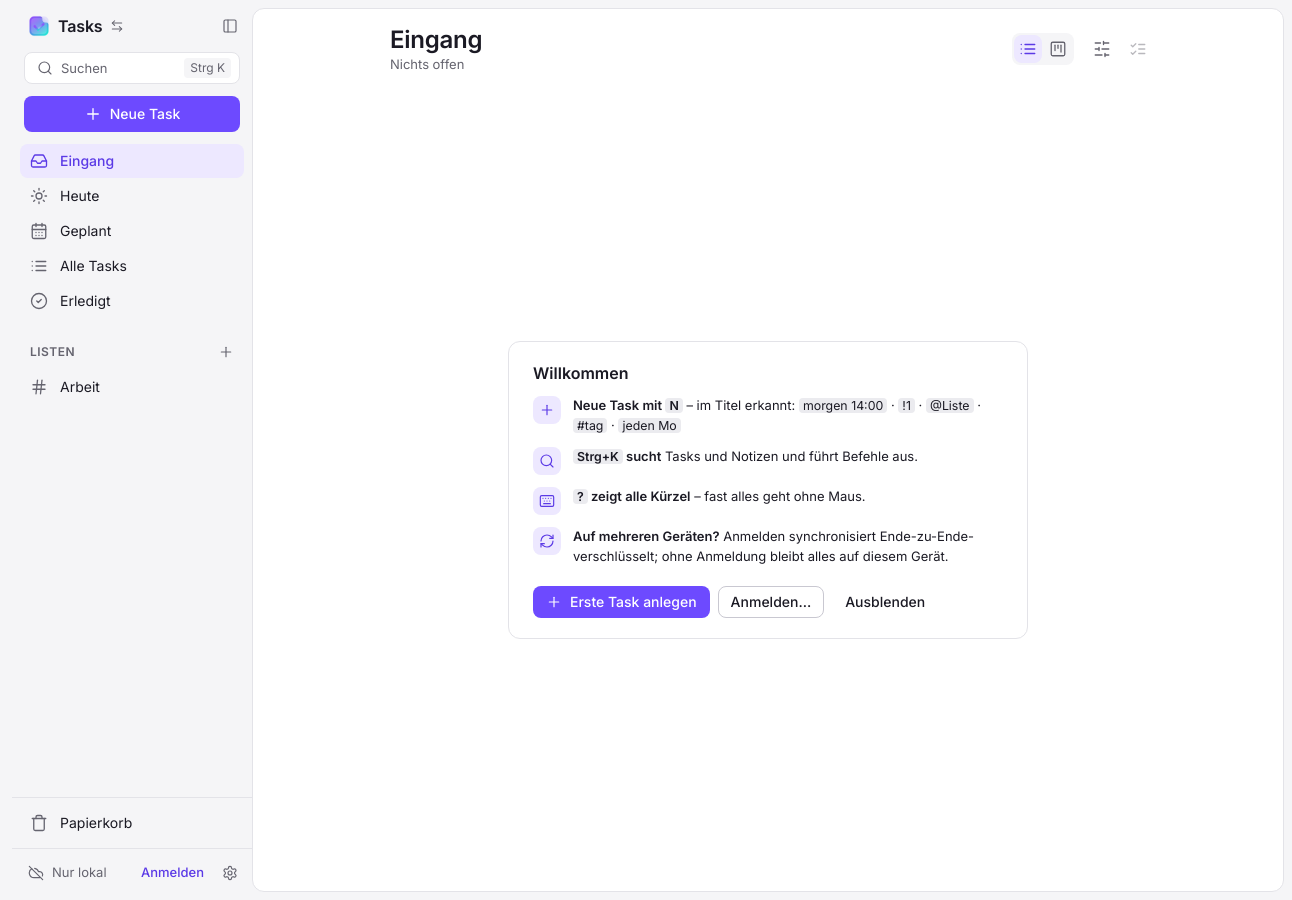
it: App navigation › collapses the sidebar to icons
The width and height of the screenshot is (1292, 900).
Expected: the link "Arbeit" is shown, [30,378,100,396]
Click the button named "Seitenleiste einklappen": (230, 26) [216,12,244,40]
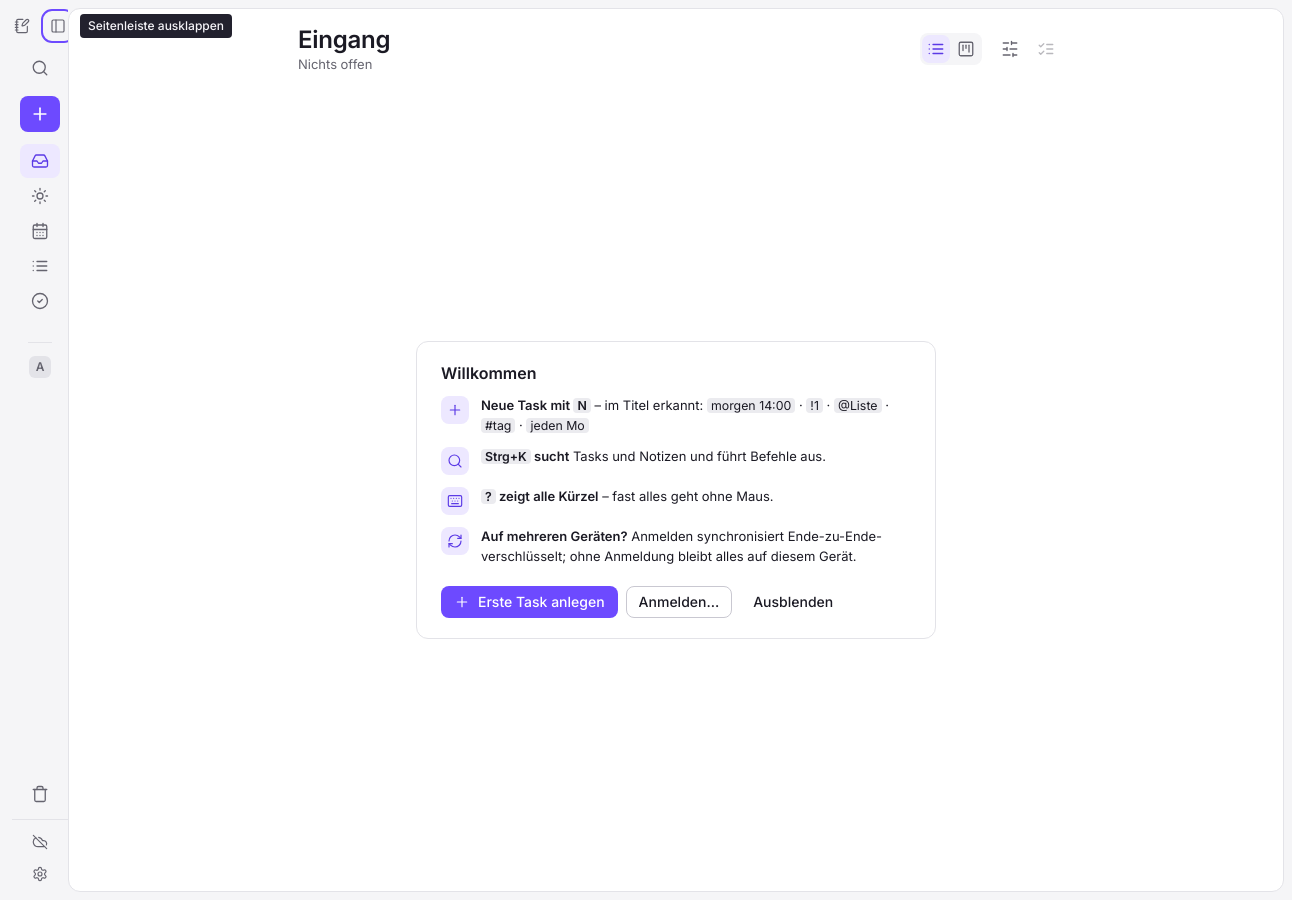
Expected: the link named "Arbeit" is shown, [29,356,51,378]
Now the text "Listen" is gone
